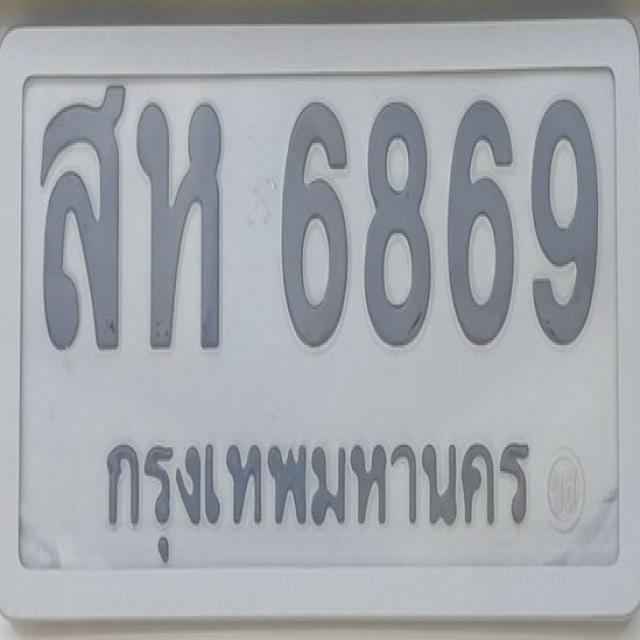license_plate: (0, 15, 640, 626)
